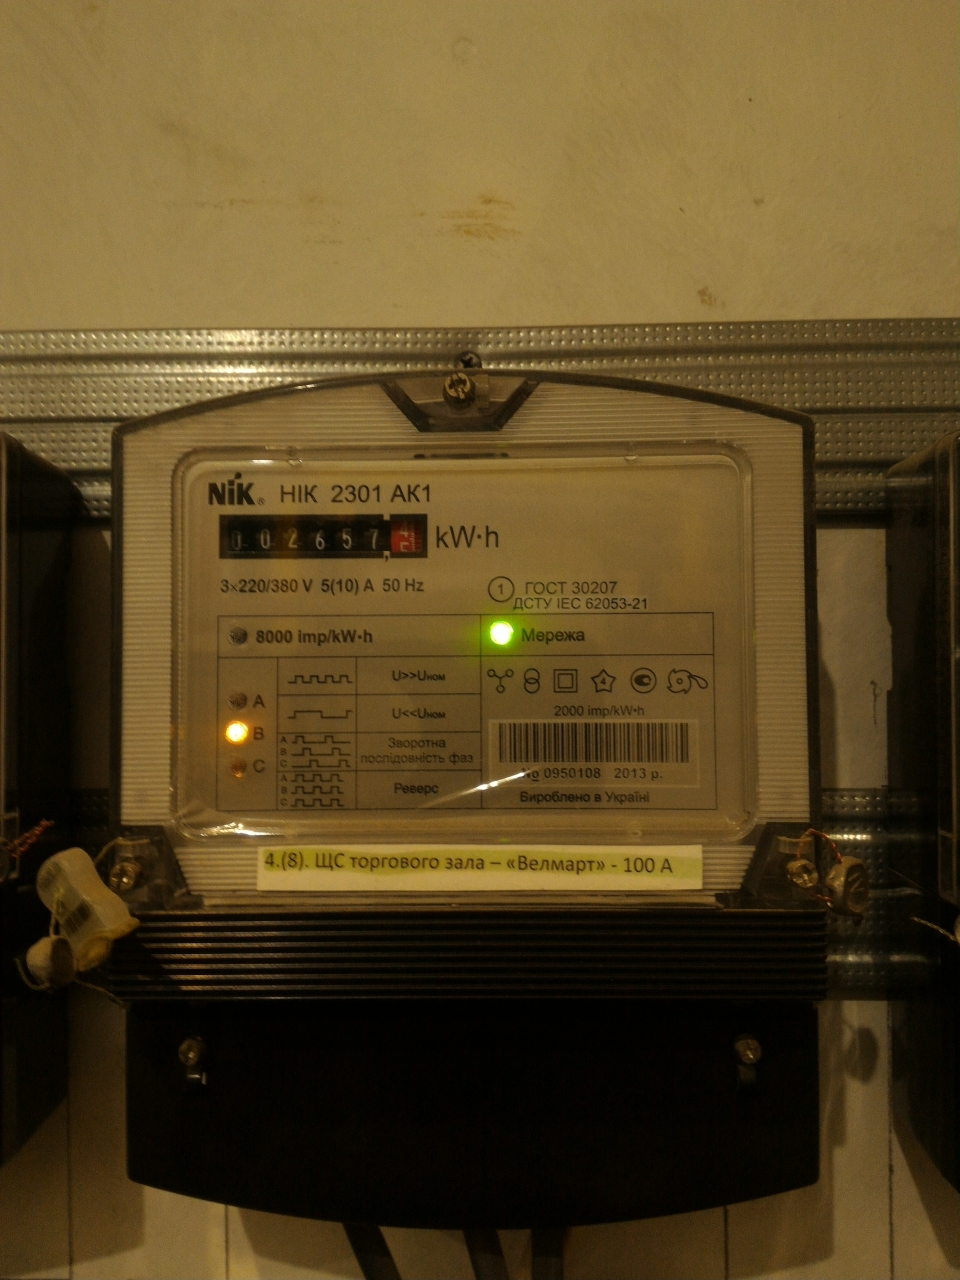0: (229, 527, 243, 551), (257, 526, 271, 550)
2: (285, 525, 301, 550)
4: (398, 517, 410, 538)
5: (340, 526, 353, 551), (399, 540, 411, 553)
6: (313, 527, 327, 551)
7: (368, 526, 380, 550)
screen: (211, 506, 439, 566)
